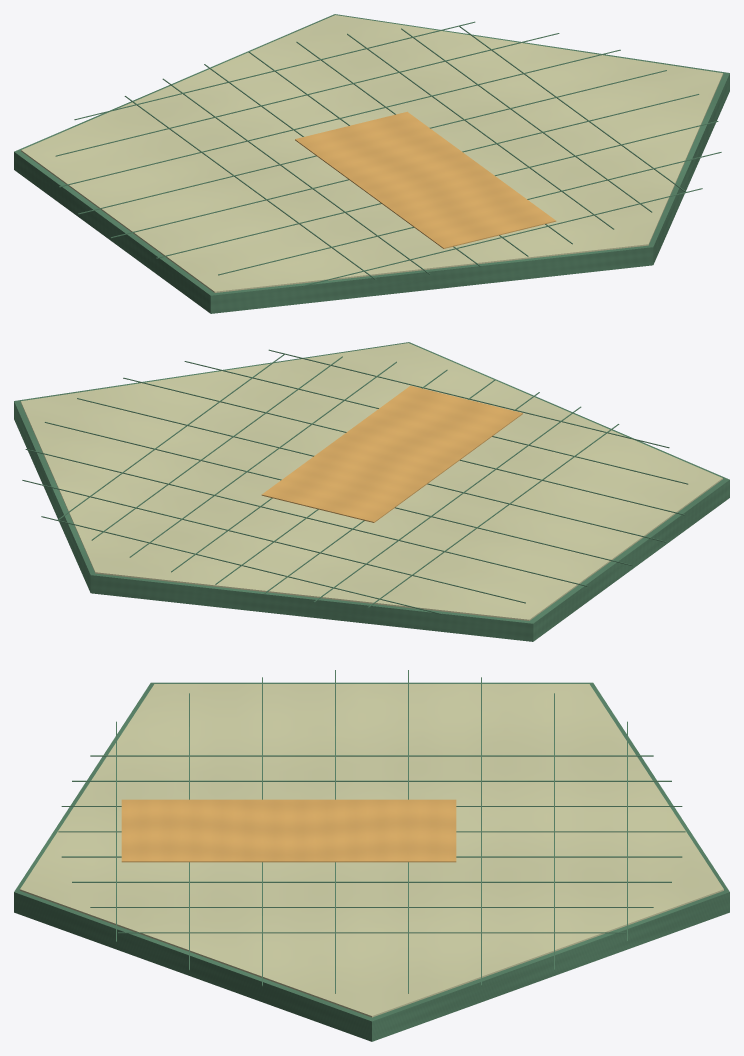
The model's file is atlas100-s004-a07.lod1.glb.
The picture shows the model from 3 angles, top to bottom: view 1: azimuth 30°, elevation 25°; view 2: azimuth 150°, elevation 25°; view 3: azimuth 270°, elevation 25°; orthographic projection. The views are drawn at different scales.
Parts seen in each view (by area): view 1: atlas100-s004-a07:part-001, atlas100-s004-a07:part-000, atlas100-s004-a07:part-021, atlas100-s004-a07:part-015, atlas100-s004-a07:part-014, atlas100-s004-a07:part-017, atlas100-s004-a07:part-016, atlas100-s004-a07:part-018, atlas100-s004-a07:part-013, atlas100-s004-a07:part-020, atlas100-s004-a07:part-019, atlas100-s004-a07:part-009 (+3 smaller); view 2: atlas100-s004-a07:part-001, atlas100-s004-a07:part-000, atlas100-s004-a07:part-021, atlas100-s004-a07:part-015, atlas100-s004-a07:part-014, atlas100-s004-a07:part-016, atlas100-s004-a07:part-017, atlas100-s004-a07:part-018, atlas100-s004-a07:part-020, atlas100-s004-a07:part-013, atlas100-s004-a07:part-019, atlas100-s004-a07:part-005 (+3 smaller); view 3: atlas100-s004-a07:part-001, atlas100-s004-a07:part-021, atlas100-s004-a07:part-000, atlas100-s004-a07:part-009, atlas100-s004-a07:part-005, atlas100-s004-a07:part-004, atlas100-s004-a07:part-011.
Boxes of the visible parts, x1,y1,x2,y2 form: atlas100-s004-a07:part-001: [21, 15, 723, 292]; atlas100-s004-a07:part-000: [14, 14, 729, 313]; atlas100-s004-a07:part-021: [295, 111, 556, 248]; atlas100-s004-a07:part-015: [59, 49, 620, 187]; atlas100-s004-a07:part-014: [55, 33, 559, 156]; atlas100-s004-a07:part-017: [110, 94, 699, 238]; atlas100-s004-a07:part-016: [78, 70, 666, 214]; atlas100-s004-a07:part-018: [156, 121, 718, 258]; atlas100-s004-a07:part-013: [74, 21, 475, 120]; atlas100-s004-a07:part-020: [302, 188, 702, 286]; atlas100-s004-a07:part-019: [218, 152, 721, 275]; atlas100-s004-a07:part-009: [347, 33, 614, 229]; atlas100-s004-a07:part-001: [20, 343, 722, 620]; atlas100-s004-a07:part-000: [14, 342, 729, 641]; atlas100-s004-a07:part-021: [261, 385, 522, 522]; atlas100-s004-a07:part-015: [25, 449, 587, 586]; atlas100-s004-a07:part-014: [22, 480, 525, 603]; atlas100-s004-a07:part-016: [44, 422, 633, 566]; atlas100-s004-a07:part-017: [77, 398, 665, 542]; atlas100-s004-a07:part-018: [123, 377, 684, 515]; atlas100-s004-a07:part-020: [268, 349, 669, 448]; atlas100-s004-a07:part-013: [41, 516, 441, 614]; atlas100-s004-a07:part-019: [184, 361, 688, 484]; atlas100-s004-a07:part-005: [313, 406, 581, 602]; atlas100-s004-a07:part-001: [20, 684, 723, 1017]; atlas100-s004-a07:part-021: [121, 799, 456, 862]; atlas100-s004-a07:part-000: [14, 682, 729, 1041]; atlas100-s004-a07:part-009: [72, 881, 671, 882]; atlas100-s004-a07:part-005: [72, 780, 671, 781]; atlas100-s004-a07:part-004: [90, 755, 653, 756]; atlas100-s004-a07:part-011: [118, 932, 625, 933].
Bounding box in the file's own units: 12.43 × 0.404 × 10.78.
3 materials, 3 textured.
